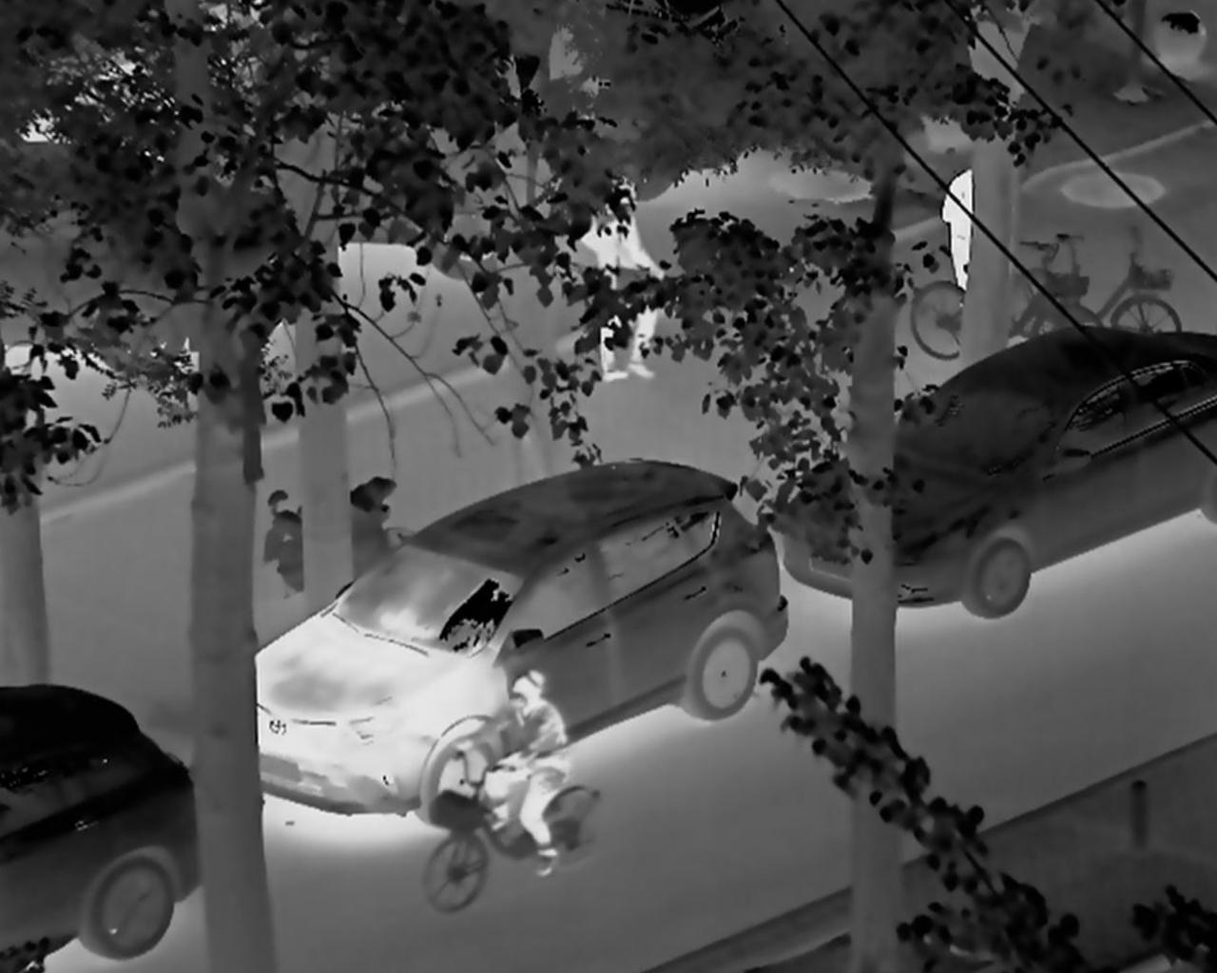person: (450, 665, 571, 884), (571, 175, 676, 390), (941, 172, 978, 286)
